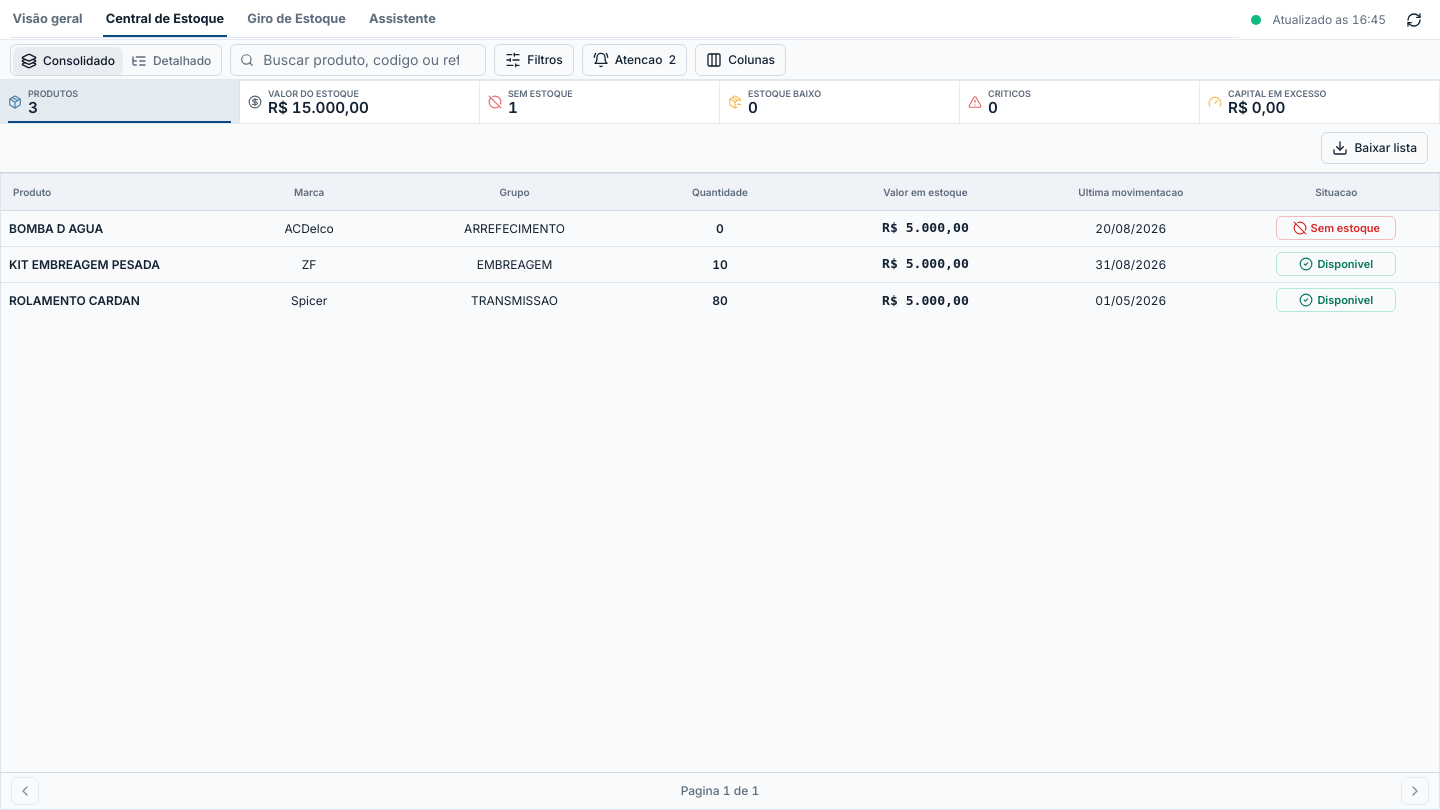
Test: EstoquePage › mantem a Visao geral consolidada quando a fonte detalhada falha
The image size is (1440, 810).
Click the button "Detalhado" at (171, 60), box [123,46,219,74]
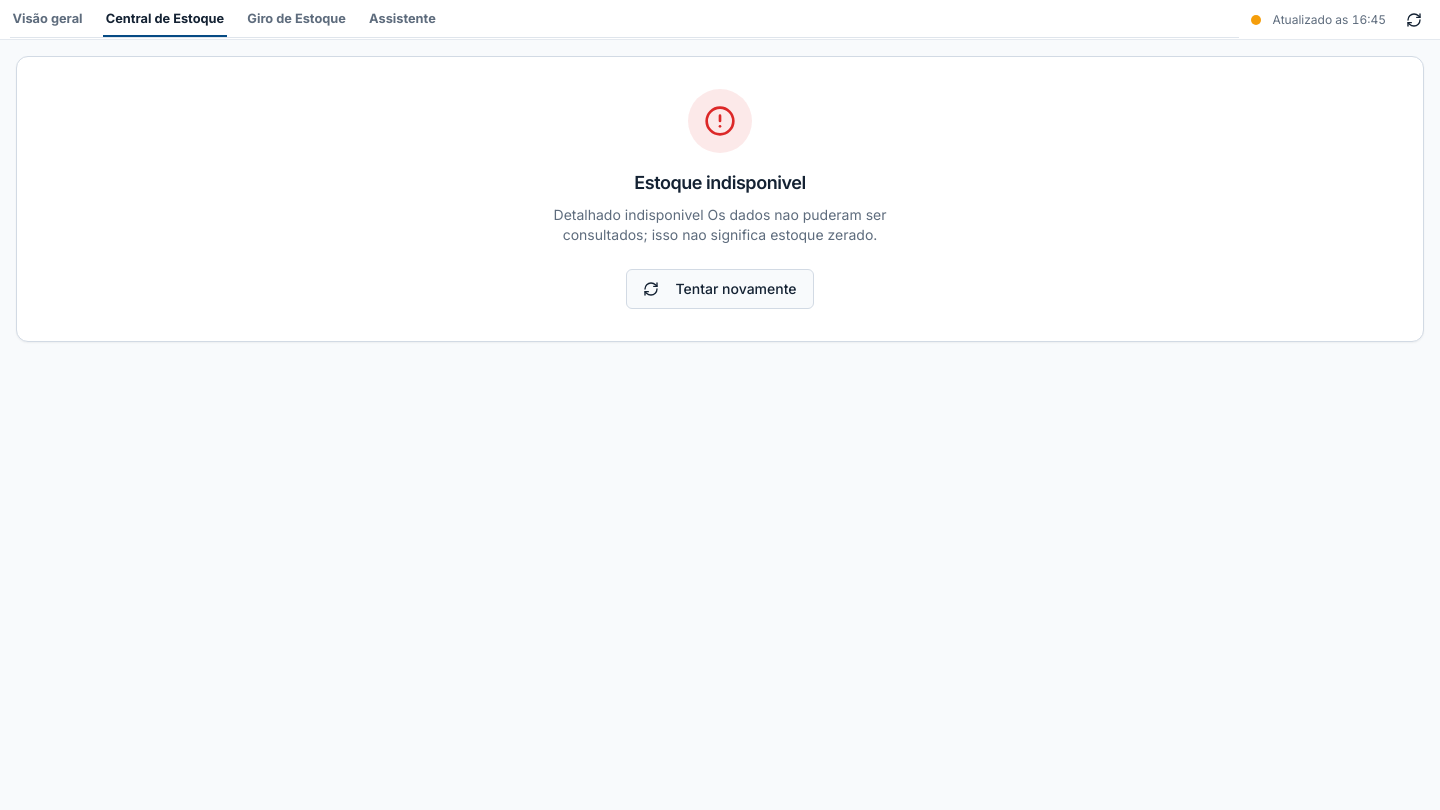
Result: the heading "Estoque indisponivel" is shown at [634,169,806,197]
Click the tab "Visão geral" at (47, 19), box [10,1,85,37]
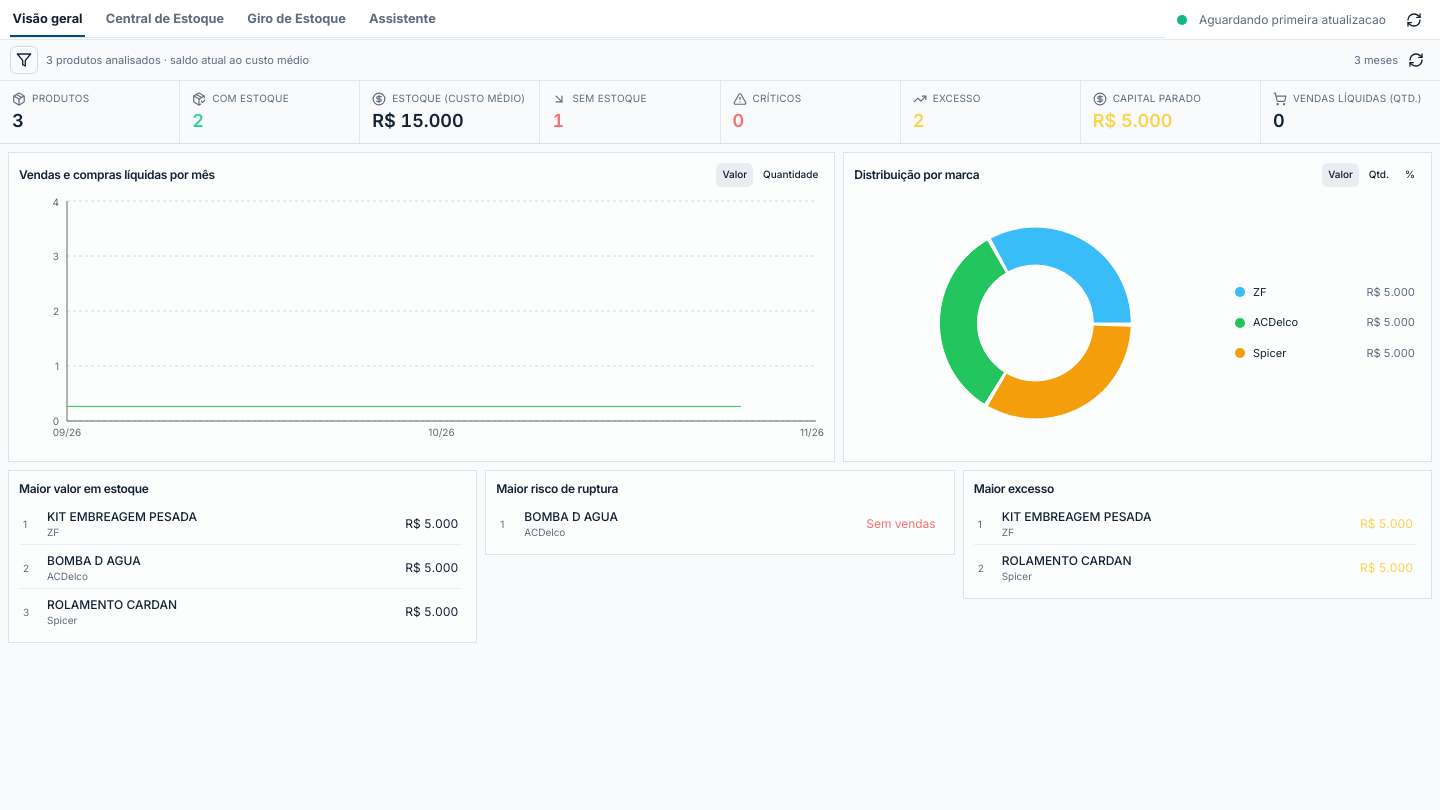
Result: the element named "Visão geral do estoque" is shown
Result: the heading "Estoque indisponivel" is gone
